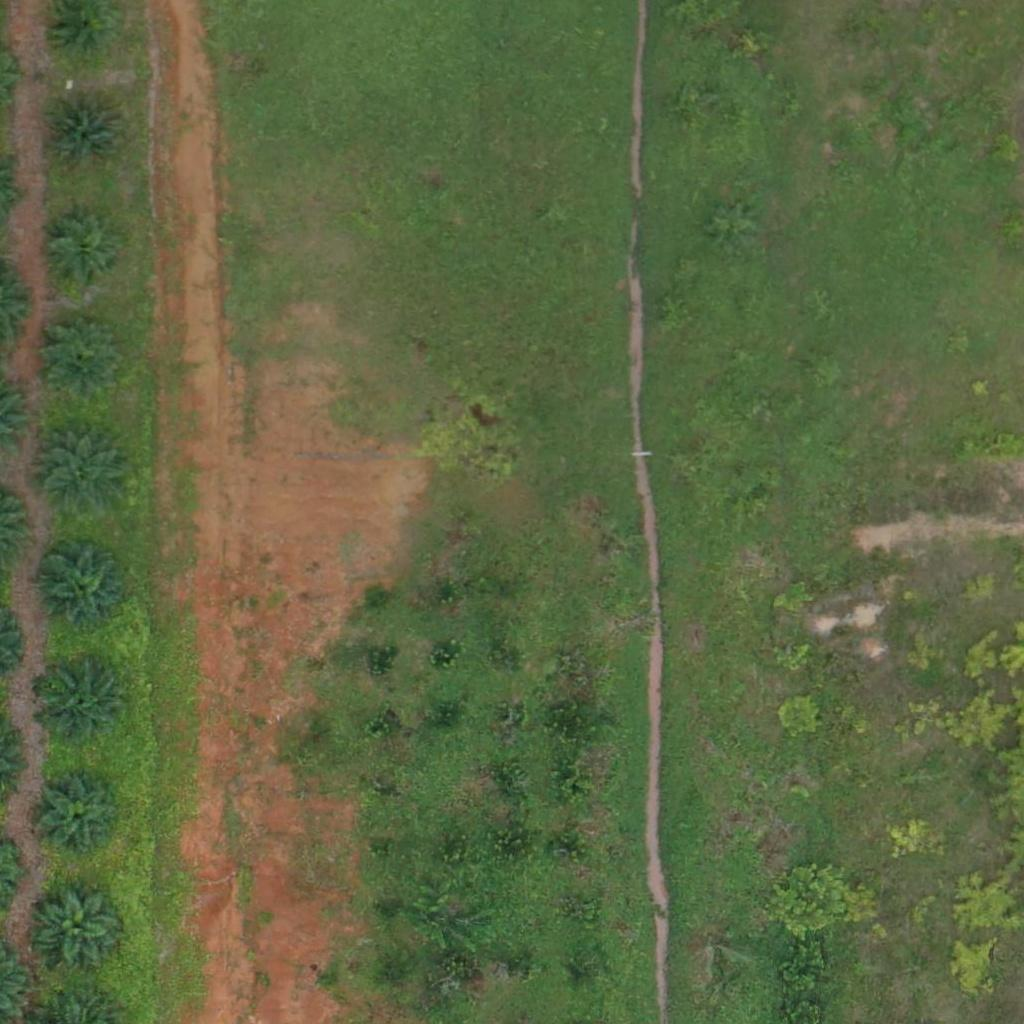Kelapa_Sawit: (32, 538, 132, 639), (38, 212, 126, 300), (40, 659, 128, 747), (36, 773, 124, 861), (37, 883, 125, 971), (42, 93, 129, 181), (38, 313, 125, 401), (38, 428, 125, 516)
